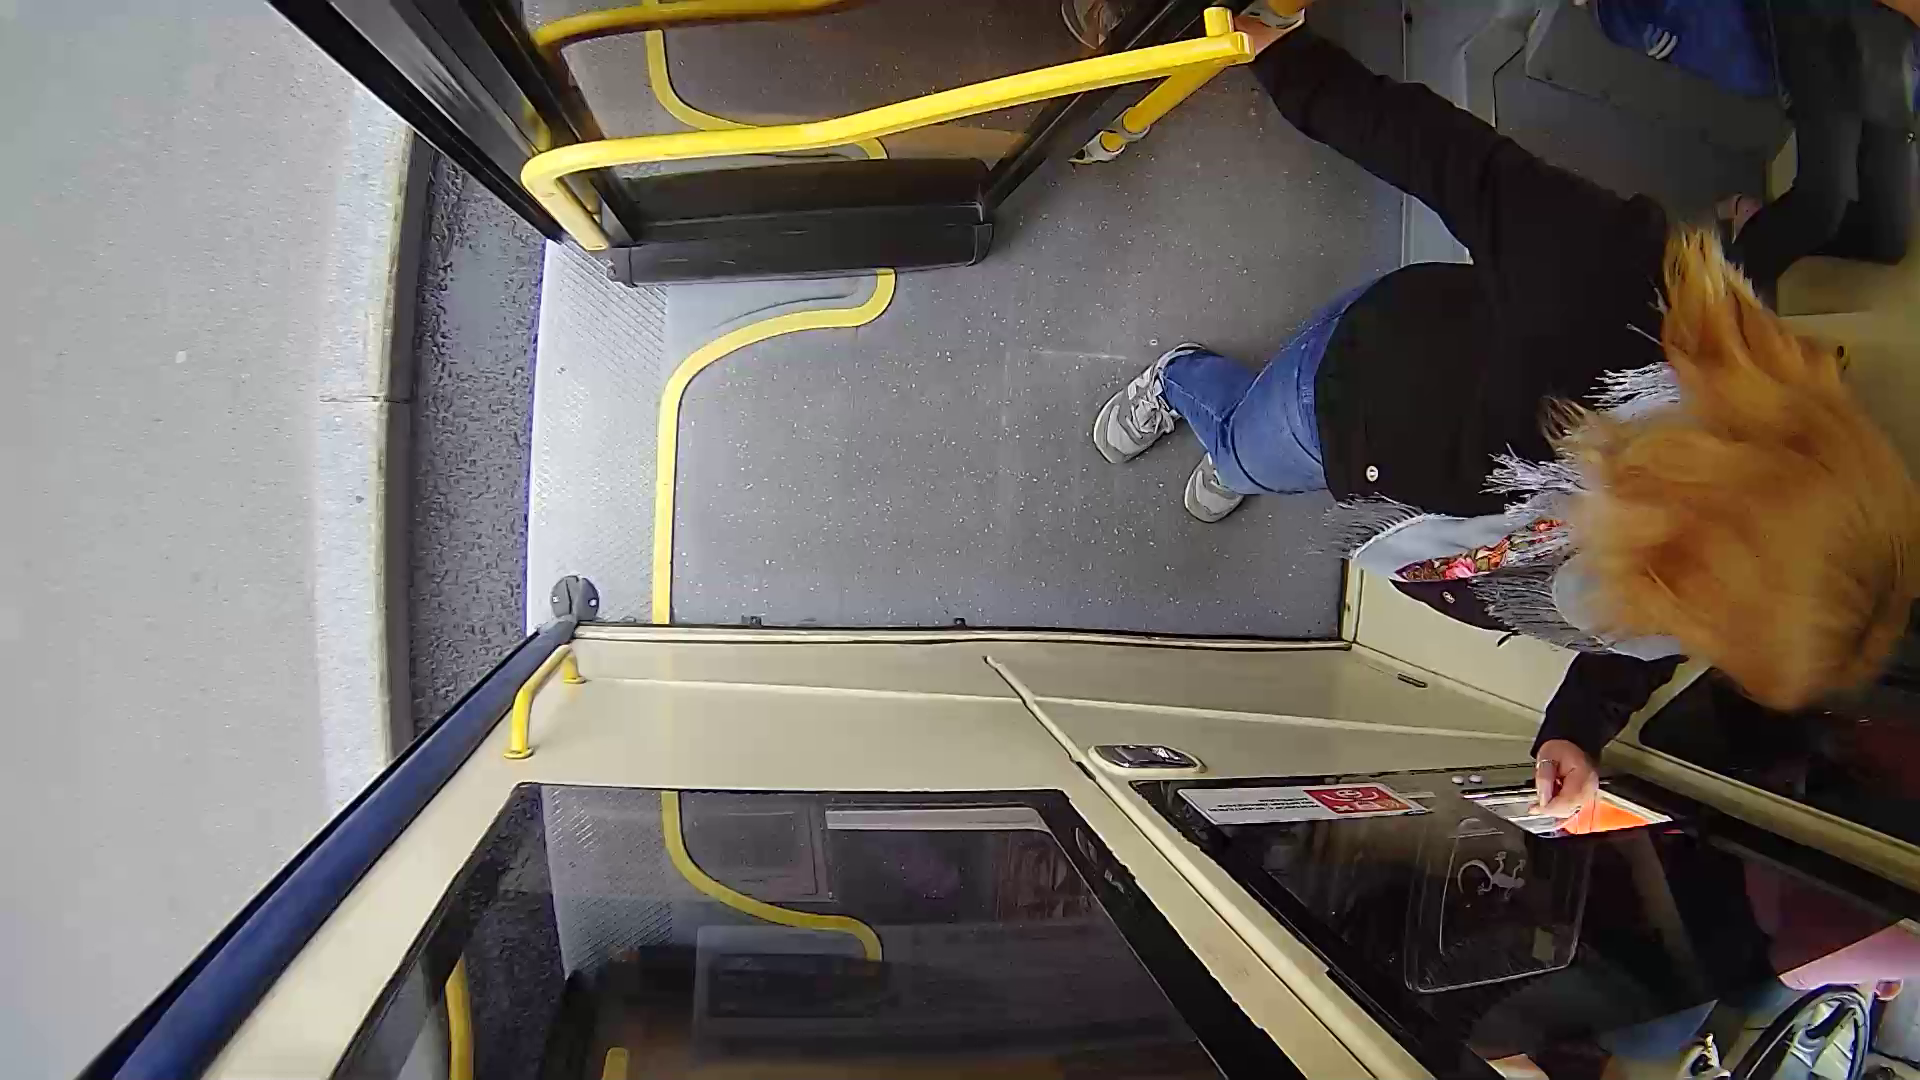person: (1120, 90, 1878, 794)
